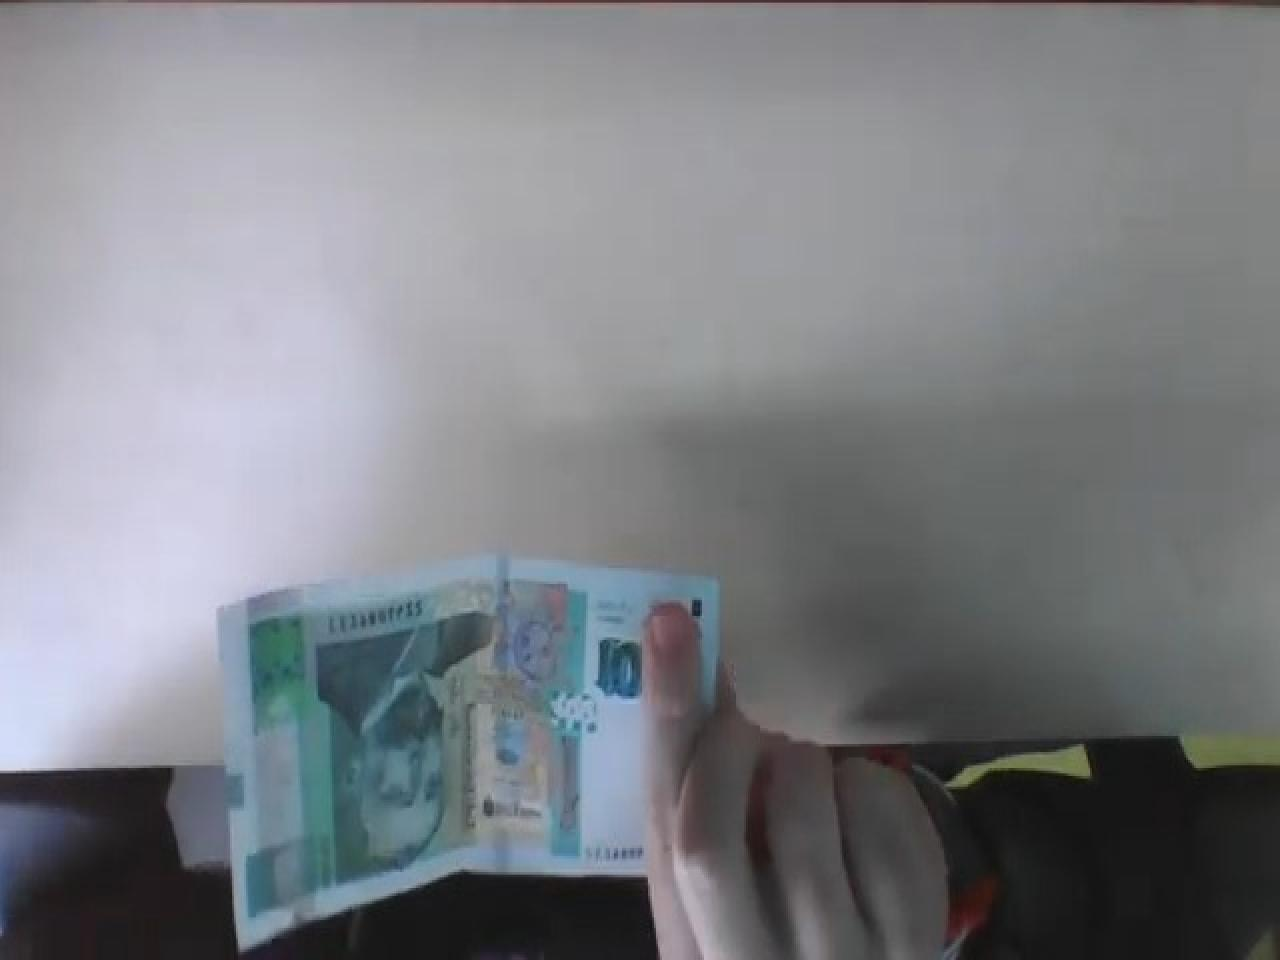100leva: (216, 552, 722, 952), (310, 605, 496, 878)
